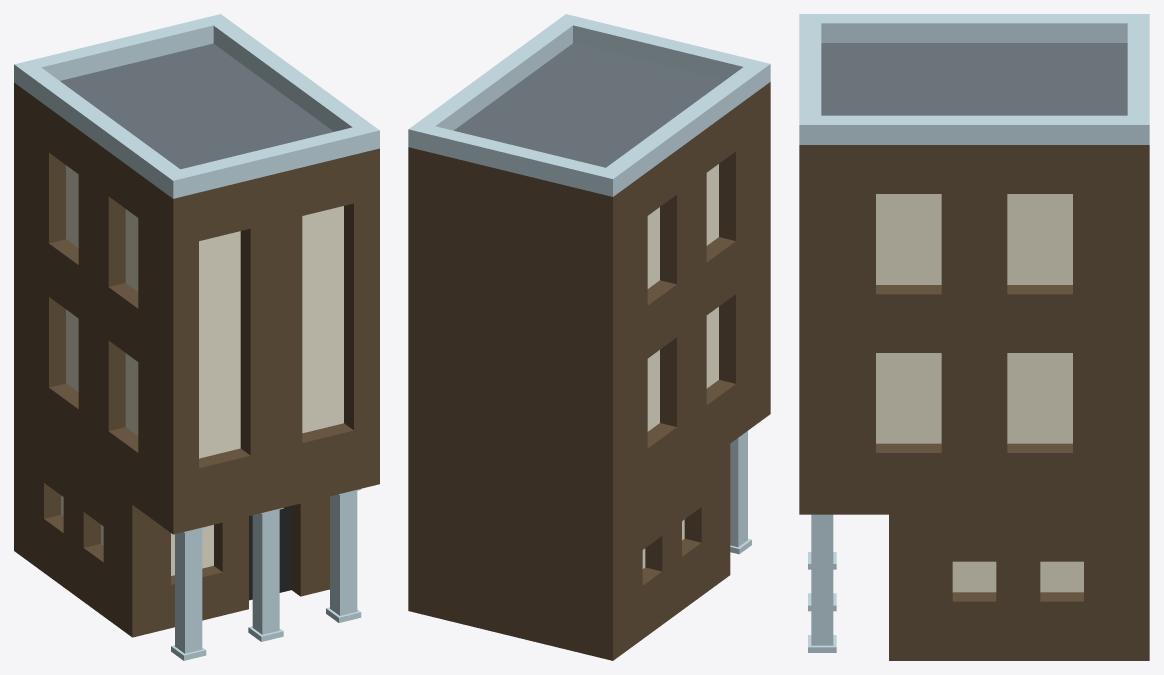
Rendered from Building_9 (Brown).obj.
The picture shows the model from 3 angles, left to right: view 1: azimuth 30°, elevation 25°; view 2: azimuth 150°, elevation 25°; view 3: azimuth 270°, elevation 25°; orthographic projection. The views are drawn at different scales.
Visible parts, largest first — view 1: Building_9_(Brown); view 2: Building_9_(Brown); view 3: Building_9_(Brown).
Boxes of the visible parts, box(x1,y1,x2,y2) form: Building_9_(Brown): box(14, 14, 379, 660); Building_9_(Brown): box(408, 14, 770, 660); Building_9_(Brown): box(799, 14, 1149, 660).
Bounding box in the file's own units: 1.2 × 2.7 × 1.6.
